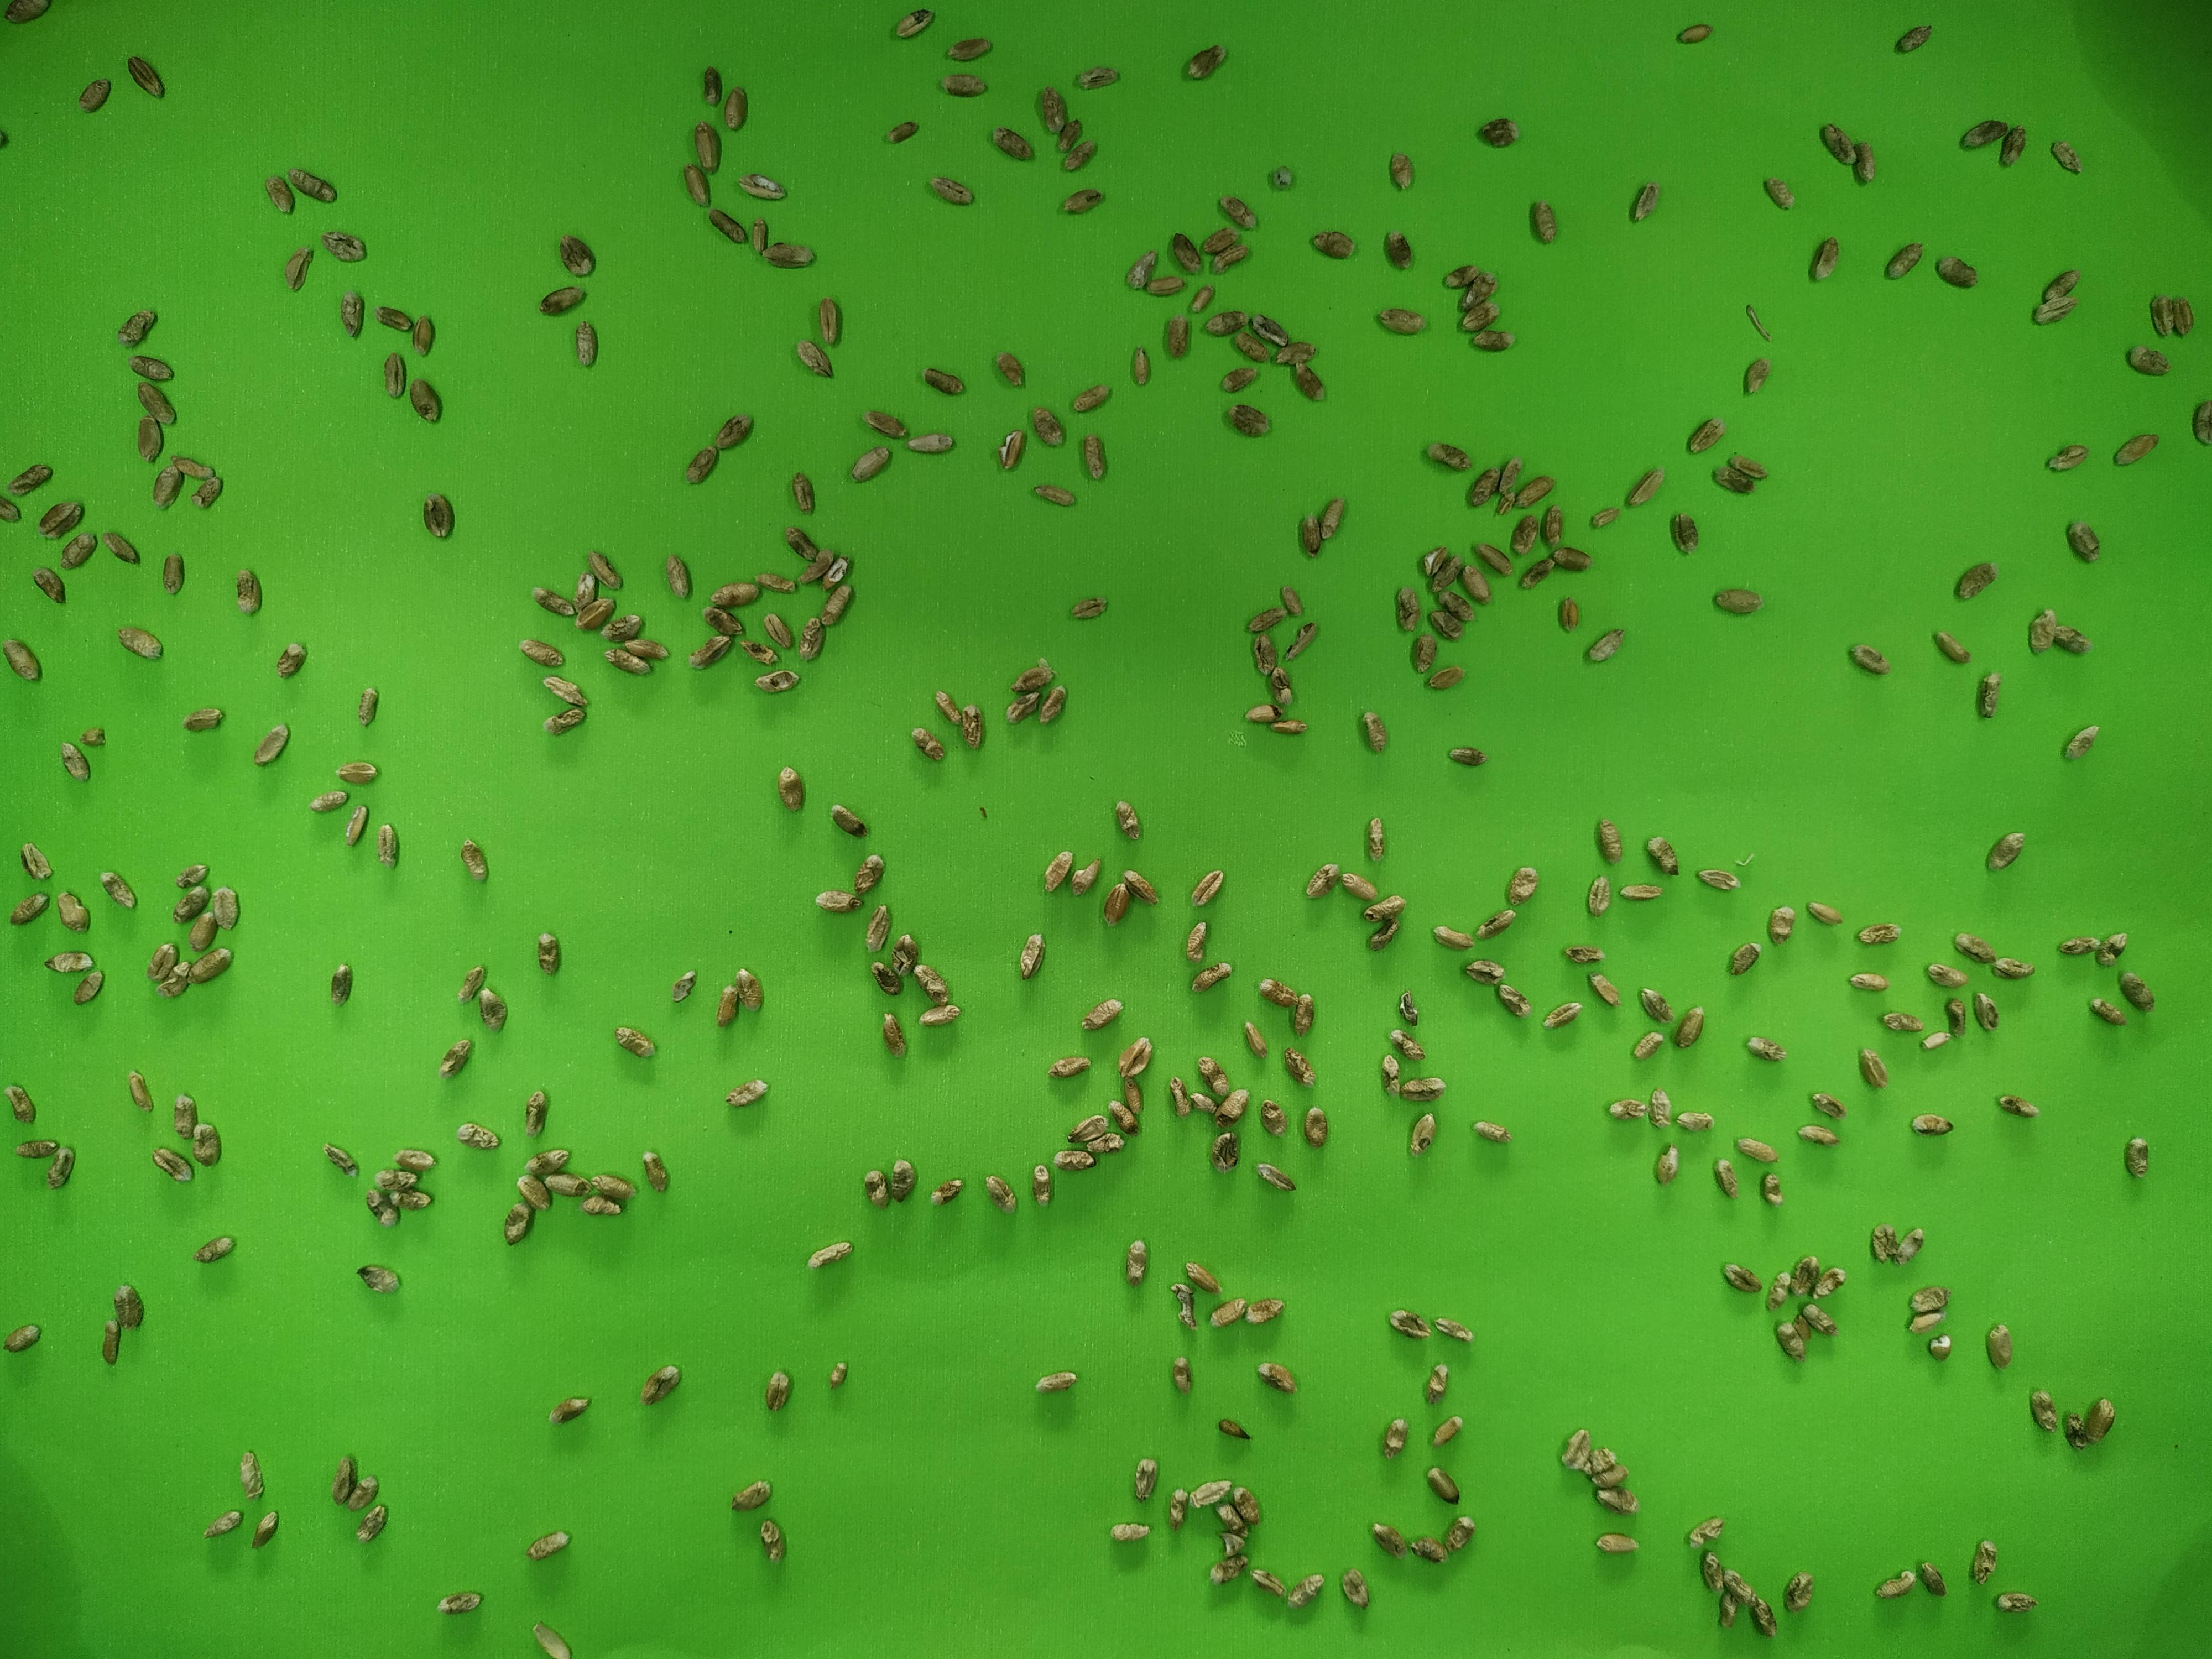danado: (124, 50, 166, 105), (369, 816, 407, 874), (289, 163, 340, 205), (1950, 562, 2001, 603), (1077, 430, 1111, 488), (405, 374, 445, 424), (421, 489, 457, 543), (1980, 1320, 2017, 1374), (687, 630, 732, 673), (2121, 341, 2173, 378), (499, 1198, 537, 1249), (1855, 1040, 1891, 1094), (0, 635, 41, 682), (811, 292, 844, 349), (678, 158, 715, 209), (689, 115, 722, 173), (1402, 1108, 1442, 1155), (114, 623, 165, 660), (1013, 931, 1048, 983), (1501, 862, 1542, 907), (1222, 402, 1275, 437), (1624, 466, 1667, 509), (1455, 561, 1497, 605), (1684, 413, 1728, 455), (55, 529, 100, 570), (167, 448, 220, 483), (1385, 145, 1422, 195), (1407, 625, 1441, 678), (1023, 1161, 1058, 1212), (2023, 1383, 2058, 1436), (2030, 295, 2080, 331), (1283, 1570, 1326, 1612), (435, 1037, 478, 1078), (1425, 922, 1477, 957), (711, 409, 757, 448), (1464, 467, 1504, 512), (36, 499, 82, 539), (2061, 718, 2100, 765), (1906, 1559, 1953, 1597), (1880, 242, 1927, 280), (852, 847, 886, 899), (818, 579, 856, 627), (845, 445, 893, 482), (1768, 1319, 1814, 1358), (1364, 1522, 1411, 1561), (1115, 1032, 1153, 1078), (701, 207, 750, 243), (1642, 835, 1683, 878), (1580, 872, 1616, 921), (167, 1090, 200, 1144), (1337, 1564, 1373, 1613), (1583, 1451, 1630, 1489), (515, 1171, 556, 1213), (1232, 322, 1272, 365), (0, 1081, 40, 1124), (1165, 229, 1204, 274), (1720, 1567, 1760, 1611), (1905, 1282, 1956, 1316), (473, 988, 512, 1032), (802, 1239, 855, 1271), (1751, 1165, 1789, 1210), (1946, 929, 1996, 963), (1308, 226, 1359, 260), (517, 636, 568, 669), (1180, 914, 1212, 967), (378, 346, 408, 405), (539, 672, 590, 706), (15, 838, 51, 885), (1423, 1464, 1462, 1508), (1928, 629, 1971, 668), (1907, 1106, 1957, 1141), (1629, 175, 1662, 228), (188, 946, 233, 984), (790, 340, 835, 377), (539, 281, 587, 317), (1494, 980, 1531, 1026), (1934, 253, 1980, 290), (148, 1143, 194, 1180), (1635, 984, 1677, 1024), (77, 72, 117, 114), (661, 549, 692, 604), (1299, 1099, 1331, 1153), (1236, 1014, 1272, 1061), (1187, 865, 1225, 910), (522, 1528, 573, 1561), (528, 1621, 573, 1659), (1376, 305, 1424, 340), (1793, 1301, 1841, 1337), (530, 929, 567, 974), (273, 637, 310, 682), (1208, 1128, 1242, 1177), (1468, 324, 1517, 357), (794, 615, 826, 666), (1027, 403, 1064, 448), (990, 125, 1036, 161), (680, 442, 721, 483), (253, 724, 293, 766), (1712, 585, 1765, 617), (1032, 681, 1072, 724), (1182, 43, 1224, 82), (1984, 831, 2027, 870), (642, 1363, 681, 1406), (1036, 86, 1070, 135), (774, 763, 806, 813), (1363, 888, 1407, 925), (45, 1145, 80, 1192), (1378, 1414, 1411, 1464), (1505, 515, 1544, 557), (119, 305, 155, 351), (1843, 967, 1896, 998), (1421, 440, 1474, 471), (1253, 974, 1297, 1012), (756, 1516, 789, 1567), (1996, 119, 2030, 168), (858, 405, 907, 439), (860, 1166, 897, 1211), (1005, 682, 1042, 727), (2026, 608, 2063, 652), (1120, 1238, 1152, 1290), (1400, 1073, 1452, 1104), (377, 293, 405, 349), (149, 465, 184, 512), (356, 1260, 400, 1297), (1168, 1282, 1200, 1333), (2086, 1397, 2120, 1444), (1255, 1097, 1291, 1142), (2115, 967, 2153, 1009), (1217, 363, 1265, 397), (1666, 509, 1699, 557), (1736, 353, 1773, 397), (1391, 581, 1422, 632), (336, 286, 367, 338), (1123, 249, 1160, 293), (527, 585, 576, 618), (1281, 1048, 1318, 1092), (611, 1025, 659, 1058), (947, 31, 994, 65), (1515, 472, 1559, 508), (878, 1010, 909, 1062), (1593, 816, 1624, 868), (784, 469, 817, 519), (305, 785, 354, 817), (1213, 1084, 1252, 1126), (1672, 1003, 1708, 1048), (1079, 997, 1124, 1032), (1067, 380, 1113, 416), (1240, 1293, 1287, 1327), (1616, 876, 1667, 907), (1208, 1500, 1251, 1538), (390, 1143, 438, 1176), (701, 603, 747, 637), (992, 345, 1027, 389), (1439, 260, 1486, 294), (886, 1156, 920, 1203), (711, 578, 764, 608), (1181, 1258, 1220, 1297), (907, 723, 947, 763), (758, 609, 797, 650), (893, 3, 934, 42), (363, 1188, 404, 1227), (99, 868, 137, 910), (1205, 1296, 1250, 1331), (1729, 1134, 1778, 1166), (71, 965, 108, 1008), (981, 1172, 1018, 1215), (2114, 432, 2157, 468), (1473, 540, 1516, 576), (1042, 846, 1074, 894), (1011, 656, 1056, 691), (729, 969, 768, 1010), (1966, 1535, 1999, 1584), (1712, 460, 1756, 494), (1560, 1428, 1595, 1473), (207, 883, 241, 930), (1537, 502, 1570, 549), (282, 240, 310, 295), (346, 1470, 383, 1512), (1106, 1098, 1142, 1141), (1719, 1259, 1761, 1296), (1782, 1567, 1812, 1619), (0, 1321, 48, 1354), (561, 231, 593, 278), (862, 905, 894, 954), (1459, 954, 1505, 988), (1987, 1588, 2041, 1616), (572, 318, 601, 372), (1757, 173, 1797, 212), (589, 1169, 636, 1202), (53, 889, 88, 933), (543, 701, 583, 739), (1431, 554, 1468, 594), (30, 564, 67, 605), (1255, 1357, 1297, 1394), (2119, 1136, 2153, 1181), (1527, 197, 1558, 246), (1046, 1050, 1093, 1082), (1186, 1477, 1232, 1510), (1130, 1451, 1158, 1506), (1819, 121, 1855, 164), (1286, 617, 1321, 660), (1196, 1053, 1231, 1097), (456, 959, 487, 1008), (521, 1086, 547, 1145), (1689, 864, 1741, 893), (997, 425, 1026, 477), (1801, 898, 1847, 931), (1208, 1548, 1247, 1588), (173, 885, 212, 924), (582, 550, 620, 589), (1110, 799, 1148, 839), (1440, 1515, 1477, 1556), (1641, 1086, 1675, 1131), (827, 803, 869, 839), (1162, 310, 1191, 362), (916, 997, 963, 1029), (1296, 509, 1325, 561), (721, 82, 750, 134), (9, 891, 52, 926), (940, 69, 985, 102), (1052, 116, 1087, 159), (123, 1066, 154, 1114), (753, 665, 799, 698), (958, 701, 987, 753), (158, 547, 187, 599), (1847, 640, 1888, 677), (2047, 135, 2084, 176), (765, 241, 816, 270), (101, 530, 143, 566), (263, 171, 295, 217), (601, 613, 648, 645), (1249, 634, 1282, 679), (1057, 185, 1107, 215), (233, 568, 263, 618), (1166, 1350, 1197, 1397), (432, 1588, 484, 1616), (342, 800, 372, 849), (2064, 518, 2097, 564), (1252, 1159, 1295, 1193), (1302, 861, 1341, 899), (736, 170, 780, 204), (1387, 1306, 1427, 1343), (1543, 546, 1597, 573), (406, 314, 440, 358), (546, 1393, 591, 1426), (577, 1187, 619, 1222), (1516, 555, 1558, 589), (1812, 236, 1842, 284), (640, 1147, 670, 1196), (321, 229, 366, 262), (1967, 989, 2001, 1032), (1191, 960, 1234, 994), (1289, 362, 1327, 401), (1961, 118, 2006, 150), (1065, 859, 1104, 896), (112, 1284, 142, 1333), (1124, 868, 1160, 908), (812, 885, 860, 915), (1360, 813, 1388, 866), (172, 854, 212, 890), (733, 1476, 773, 1512), (696, 61, 724, 113), (135, 412, 164, 463), (187, 908, 221, 952), (1426, 607, 1467, 643), (1334, 871, 1382, 901), (1710, 1154, 1741, 1201), (353, 1504, 388, 1545), (1478, 116, 1519, 150), (1893, 22, 1935, 56), (454, 1121, 500, 1152), (234, 1454, 264, 1502), (332, 759, 380, 789), (928, 173, 971, 207), (1682, 1515, 1724, 1549), (1628, 1026, 1666, 1064), (137, 386, 175, 423), (1809, 1265, 1848, 1301), (576, 596, 615, 633), (353, 681, 382, 731), (1382, 226, 1412, 273), (912, 965, 952, 1000), (1318, 495, 1348, 544), (1469, 1117, 1513, 1149), (44, 945, 90, 976), (1923, 961, 1969, 992), (1986, 955, 2036, 983), (572, 567, 601, 618), (1583, 631, 1625, 665), (778, 524, 816, 561), (1844, 144, 1880, 182), (1562, 940, 1604, 973), (1124, 345, 1157, 388), (368, 303, 414, 333), (723, 1077, 768, 1108), (192, 468, 225, 511), (194, 1234, 237, 1267), (1541, 998, 1584, 1031), (930, 684, 965, 724), (1387, 1028, 1427, 1063), (1427, 1413, 1467, 1448), (179, 703, 226, 733), (1422, 1357, 1451, 1407), (2043, 442, 2090, 472), (1793, 1121, 1841, 1150), (1651, 1142, 1679, 1191), (1029, 1370, 1082, 1396), (1876, 1008, 1926, 1036), (1051, 1142, 1100, 1171), (331, 1454, 359, 1503), (1245, 607, 1291, 637), (1201, 224, 1244, 256), (202, 1509, 246, 1541), (1217, 195, 1260, 227), (765, 1364, 791, 1416), (1739, 1034, 1786, 1063), (1423, 662, 1470, 692), (2094, 930, 2131, 967), (1365, 917, 1401, 955), (867, 959, 903, 998), (2046, 264, 2084, 300), (754, 567, 800, 597), (58, 739, 88, 784), (920, 367, 964, 398), (712, 984, 744, 1026), (1461, 300, 1501, 334), (1991, 1092, 2040, 1120), (1104, 1520, 1152, 1548), (602, 645, 647, 675), (1868, 1219, 1898, 1264), (1288, 993, 1317, 1040), (1593, 1487, 1640, 1516), (458, 836, 487, 883), (321, 1142, 359, 1177), (1204, 308, 1246, 340), (1066, 1112, 1108, 1144), (1730, 451, 1772, 483), (190, 1128, 225, 1167), (1272, 339, 1317, 369), (2084, 998, 2128, 1028), (899, 432, 954, 456), (2050, 624, 2093, 656), (1066, 593, 1111, 623), (1896, 1225, 1929, 1266), (1767, 899, 1794, 948), (748, 211, 772, 266), (129, 353, 174, 382), (1437, 591, 1479, 622), (1032, 481, 1078, 509), (1443, 742, 1489, 771), (1476, 909, 1519, 940), (1210, 245, 1253, 275), (1588, 971, 1623, 1009), (1361, 708, 1388, 758), (1410, 1533, 1453, 1563), (2150, 291, 2179, 337), (99, 1316, 123, 1371), (1790, 1254, 1822, 1294), (1266, 665, 1297, 707), (1766, 1268, 1794, 1314), (1975, 673, 2000, 726), (1061, 136, 1098, 171), (1248, 314, 1289, 345), (881, 117, 920, 150), (1726, 938, 1760, 977), (923, 1177, 967, 1207), (0, 0, 50, 25), (327, 957, 353, 1006), (1230, 1484, 1261, 1526), (800, 549, 837, 583), (1380, 1050, 1406, 1098), (1699, 1550, 1727, 1594), (1601, 1097, 1648, 1123), (150, 937, 179, 981), (1671, 1107, 1715, 1135), (1747, 1600, 1779, 1640), (1432, 1315, 1474, 1345), (524, 1146, 566, 1176), (9, 464, 51, 493), (1102, 885, 1131, 927), (1136, 275, 1190, 298), (1877, 1571, 1918, 1601), (1592, 1532, 1640, 1557), (14, 1134, 61, 1161), (251, 1512, 285, 1549), (1588, 503, 1625, 536), (1265, 713, 1312, 739), (1249, 1568, 1287, 1599), (1460, 274, 1494, 311), (1187, 281, 1217, 321), (1553, 596, 1585, 633), (1944, 995, 1971, 1039), (2174, 291, 2198, 342), (666, 967, 698, 1004), (1501, 453, 1529, 495), (1073, 65, 1123, 88), (1082, 1131, 1129, 1157), (1673, 20, 1712, 51), (823, 551, 853, 589), (1853, 921, 1900, 946), (1167, 1074, 1192, 1120), (627, 637, 669, 664), (1122, 1074, 1149, 1117), (1807, 1091, 1846, 1120), (2064, 1410, 2088, 1457), (1281, 581, 1307, 624), (155, 972, 198, 998), (374, 1166, 422, 1189), (739, 641, 781, 666), (545, 1172, 590, 1196), (393, 1186, 435, 1212), (891, 931, 920, 968), (1395, 987, 1422, 1025), (1168, 1484, 1191, 1531), (1213, 1417, 1255, 1442), (2055, 936, 2101, 959), (1242, 701, 1284, 726), (1908, 1307, 1946, 1333), (1715, 1589, 1741, 1627), (825, 1355, 852, 1390), (1918, 1030, 1958, 1053), (1266, 163, 1296, 193), (1926, 1332, 1954, 1363), (1423, 544, 1448, 579), (1217, 1532, 1253, 1556), (77, 725, 108, 748), (1495, 491, 1518, 518), (1189, 1092, 1217, 1114)
impureza: (1744, 300, 1776, 342)
